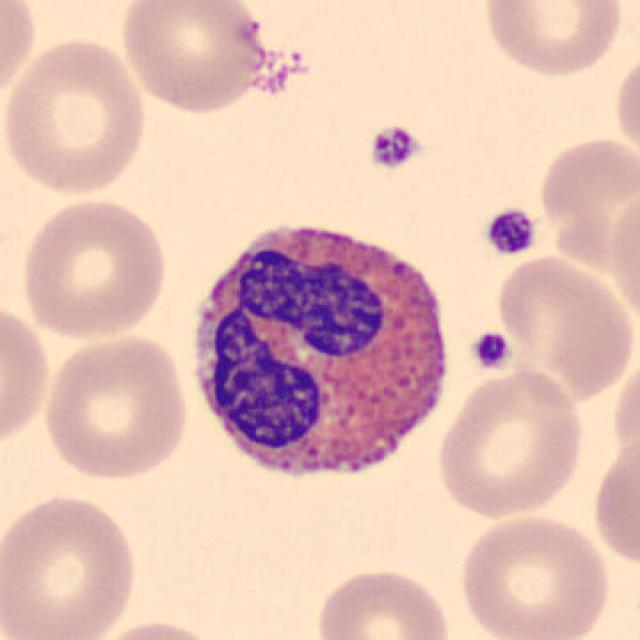Eosinophil: (180, 205, 464, 506)
Platelets: (482, 205, 538, 259), (365, 121, 423, 172), (468, 328, 516, 374)
RBC: (0, 34, 151, 199), (432, 367, 587, 522), (39, 330, 192, 483), (16, 194, 172, 342), (490, 252, 634, 404), (0, 488, 144, 640), (453, 509, 615, 640), (116, 0, 270, 118), (534, 131, 636, 275), (477, 0, 628, 81), (311, 564, 457, 640), (0, 296, 55, 453), (588, 428, 640, 573), (606, 184, 640, 334), (0, 0, 39, 116), (84, 615, 225, 640), (612, 48, 638, 166)
